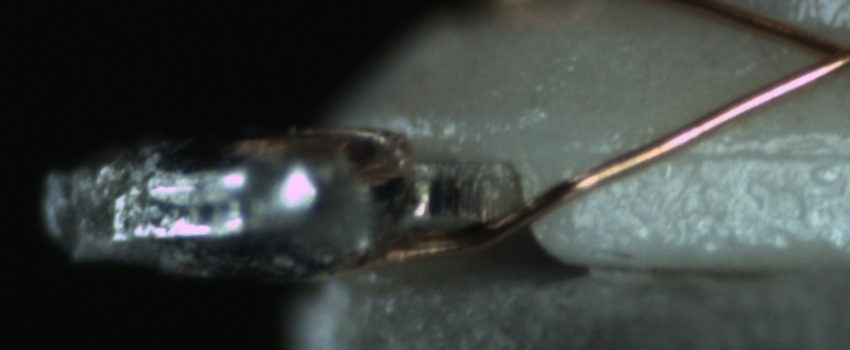CL: (797, 15, 848, 83)
DL: (625, 121, 850, 189)
